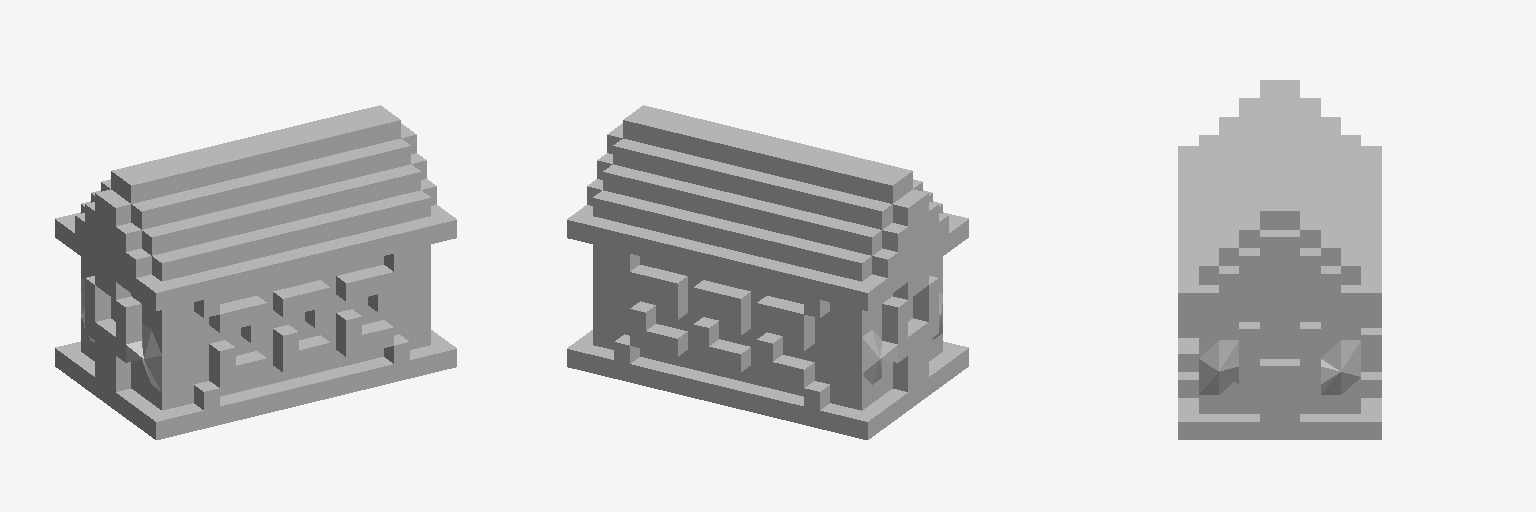
Rendered from sarco_corr.obj.
3 views of the same model, side by side, from view 1: azimuth 30°, elevation 25°; view 2: azimuth 150°, elevation 25°; view 3: azimuth 270°, elevation 25° (orthographic).
Visible parts, largest first — view 1: sarco; view 2: sarco; view 3: sarco.
Part boxes in pixels (x1,y1,x2,y2): sarco: (55,105,456,439); sarco: (567,105,968,439); sarco: (1178,80,1381,439).
Size of the model in its own units: 1.17 by 0.8239 by 0.6866.